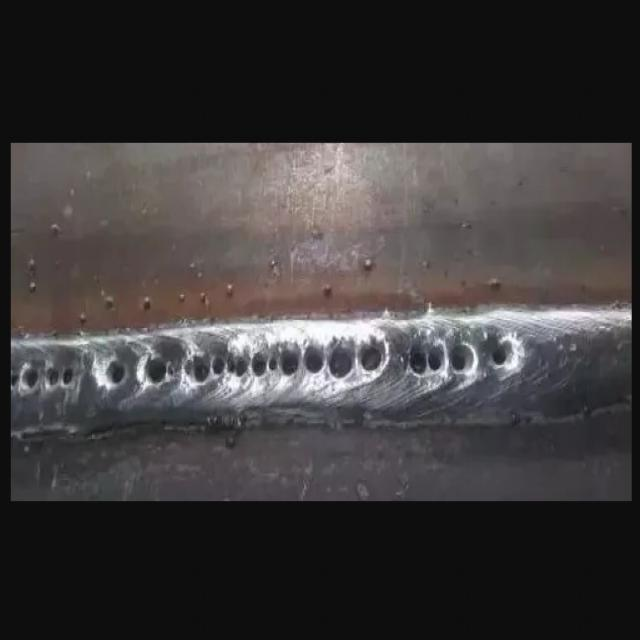Porosity: (187, 349, 251, 393), (247, 339, 302, 383), (402, 338, 450, 380), (326, 338, 358, 384), (144, 353, 171, 394), (450, 340, 479, 376), (359, 341, 389, 375), (105, 359, 128, 391), (302, 341, 324, 373), (488, 339, 513, 365), (23, 362, 39, 398), (43, 363, 59, 390), (60, 364, 74, 388), (11, 367, 19, 392)
